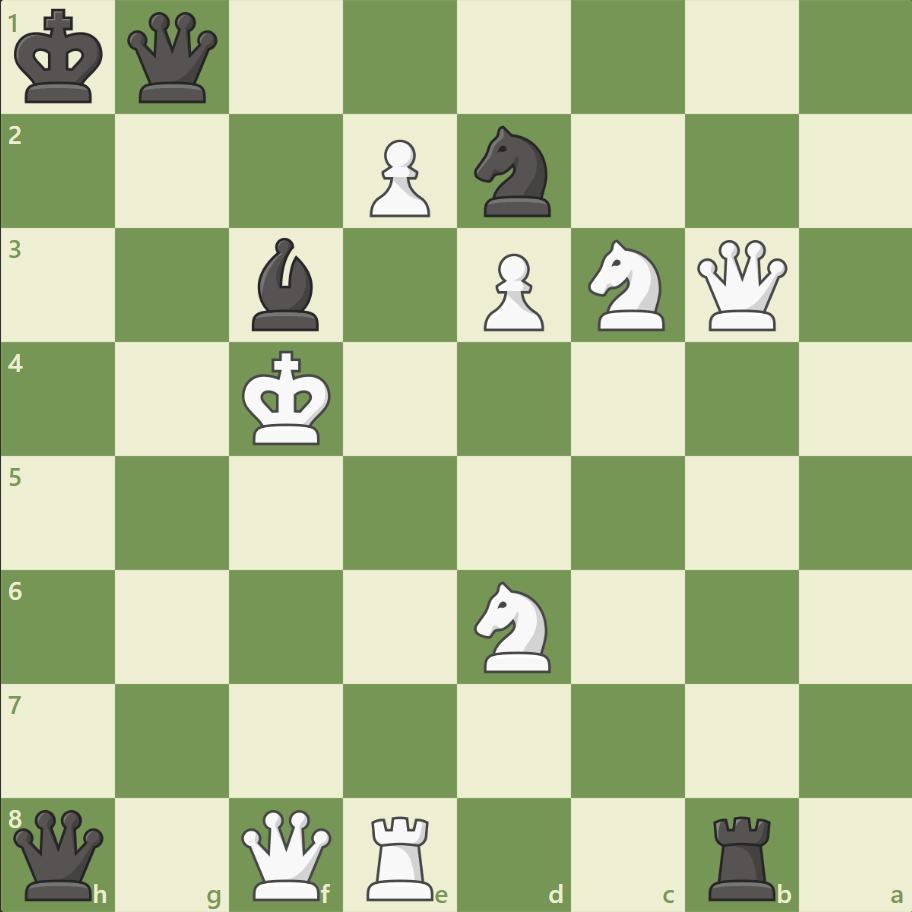K: (238, 344, 338, 452)
N: (579, 234, 676, 337), (465, 575, 562, 677)
P: (474, 246, 549, 337), (361, 132, 435, 223)
Q: (237, 804, 336, 903), (691, 236, 790, 335)
R: (360, 806, 442, 904)
b: (244, 233, 328, 336)
k: (11, 4, 111, 112)
n: (465, 121, 562, 223)
q: (10, 804, 109, 903), (124, 9, 223, 108)
r: (700, 806, 783, 904)
